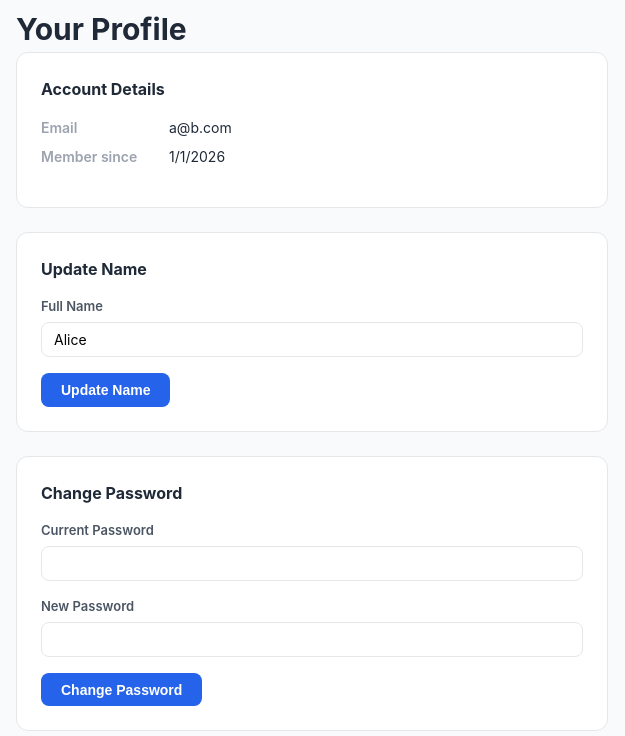
Test: Profile name update › shows a success message and refetches on success
Replace the text in the field labelled "Full Name" with "Alice B" at (312, 340), box [41, 322, 583, 357]
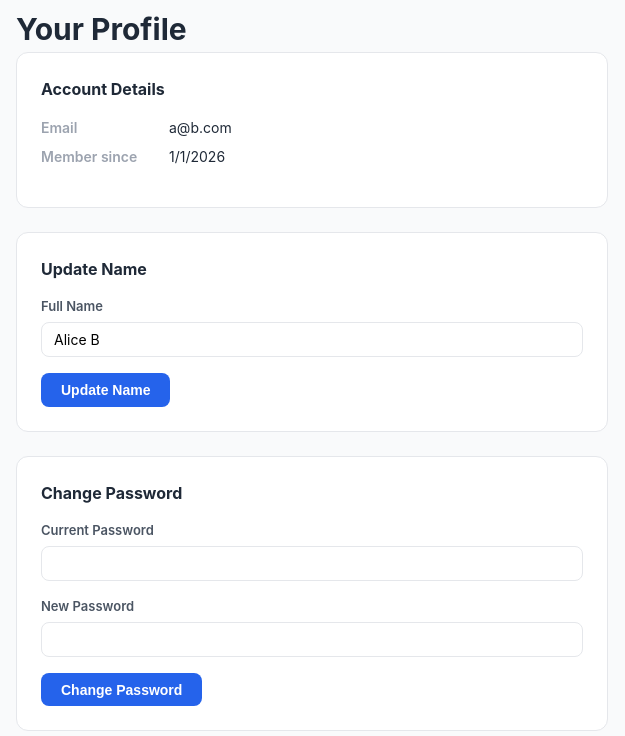
Click the button "Update Name".
click(106, 390)  # box [41, 373, 170, 407]
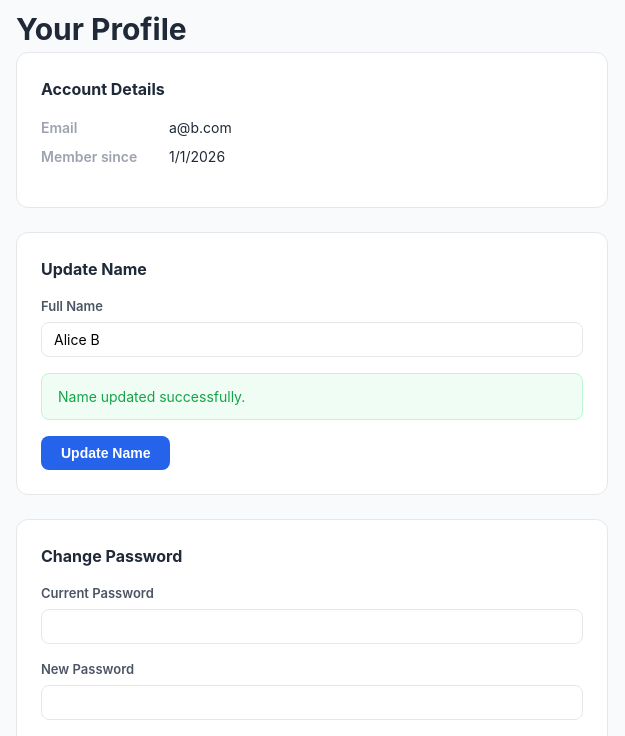
Expected: the text "Name updated successfully." is shown, [41, 373, 583, 420]
